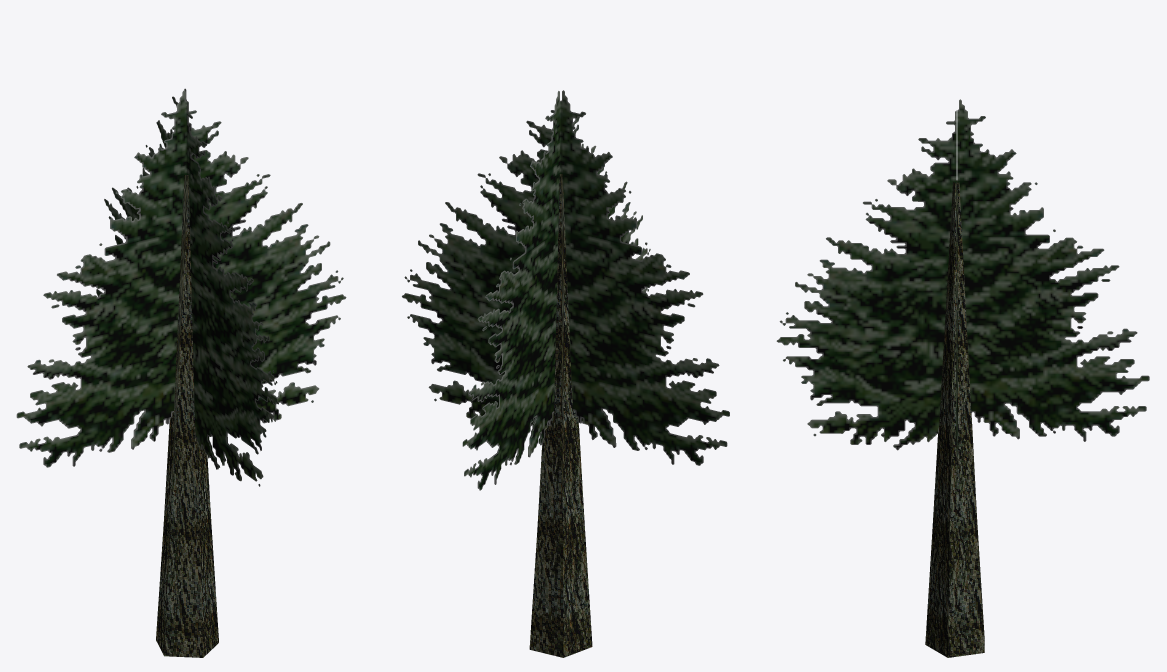
File: RPine2.fbx
3 renders of one model, left to right at view 1: azimuth 30°, elevation 25°; view 2: azimuth 150°, elevation 25°; view 3: azimuth 270°, elevation 25°, orthographic. The views are drawn at different scales.
Visible parts, largest first — view 1: lomb, torzs; view 2: lomb, torzs; view 3: lomb, torzs.
Boxes of the visible parts, box(x1,y1,x2,y2) form: lomb: box(16, 88, 346, 486); torzs: box(156, 174, 218, 657); lomb: box(402, 90, 729, 490); torzs: box(529, 174, 592, 657); lomb: box(776, 99, 1149, 487); torzs: box(925, 180, 984, 657).
Bounding box in the file's own units: 154 × 238 × 154.
